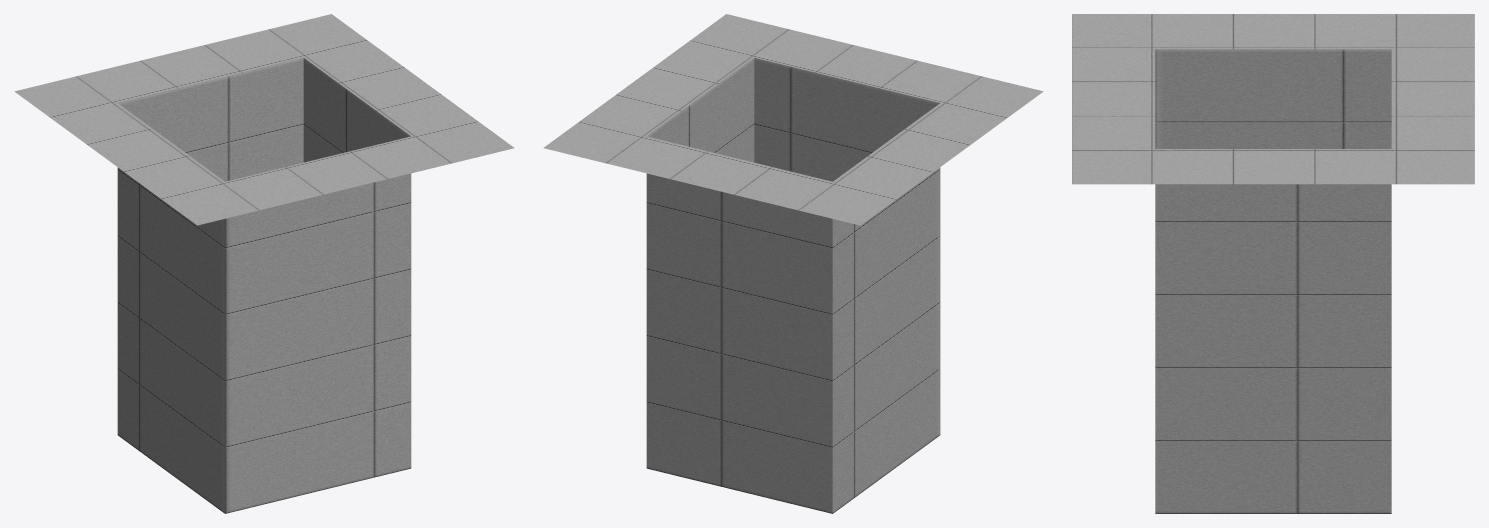
The model's file is Tileset Placeholder Floor 2.FBX.
3 views of the same model, side by side, from view 1: azimuth 30°, elevation 25°; view 2: azimuth 150°, elevation 25°; view 3: azimuth 270°, elevation 25° (orthographic). The views are drawn at different scales.
Parts seen in each view (by area): view 1: Floor 2; view 2: Floor 2; view 3: Floor 2.
Part boxes in pixels (x1,y1,x2,y2): Floor 2: [14, 14, 514, 513]; Floor 2: [543, 14, 1043, 513]; Floor 2: [1072, 14, 1474, 513].
Bounding box in the file's own units: 2.54 × 2.54 × 2.54.
Materials: 2 (2 with a texture image).
